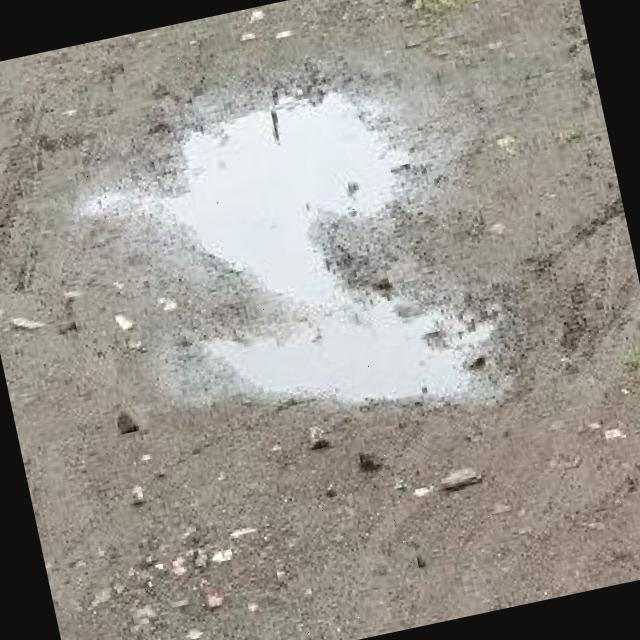waterlogging: (109, 34, 504, 456)
